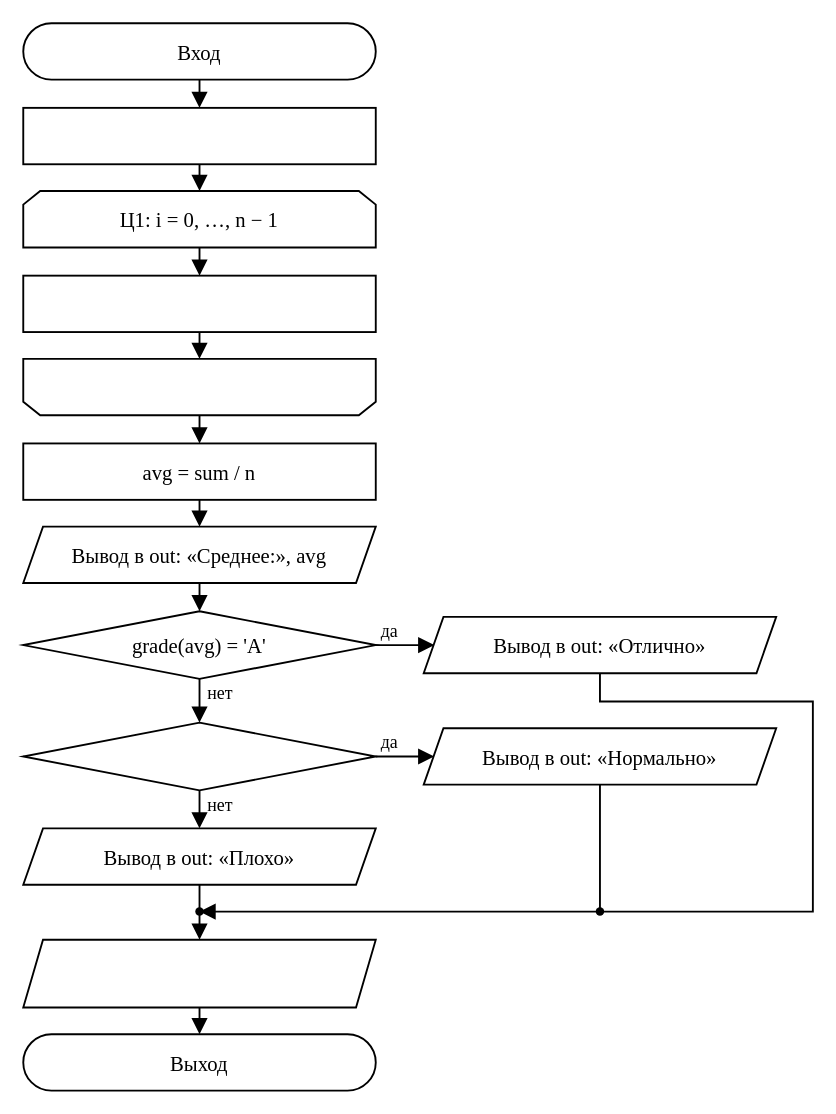
This 836x1114 diagram has some shape labels left out. The box of each missing label's shape, as (x1, y1, x2, y2) in pixels:
grade(avg) = 'B', 'C': (22, 721, 376, 790)
sum = 0: (22, 106, 376, 164)
sum = sum + a[i]: (22, 274, 376, 332)
Вывод в out: «Максимум:», a[index_of_max(a, n)]: (22, 938, 376, 1008)
Ц1: (22, 357, 376, 415)
